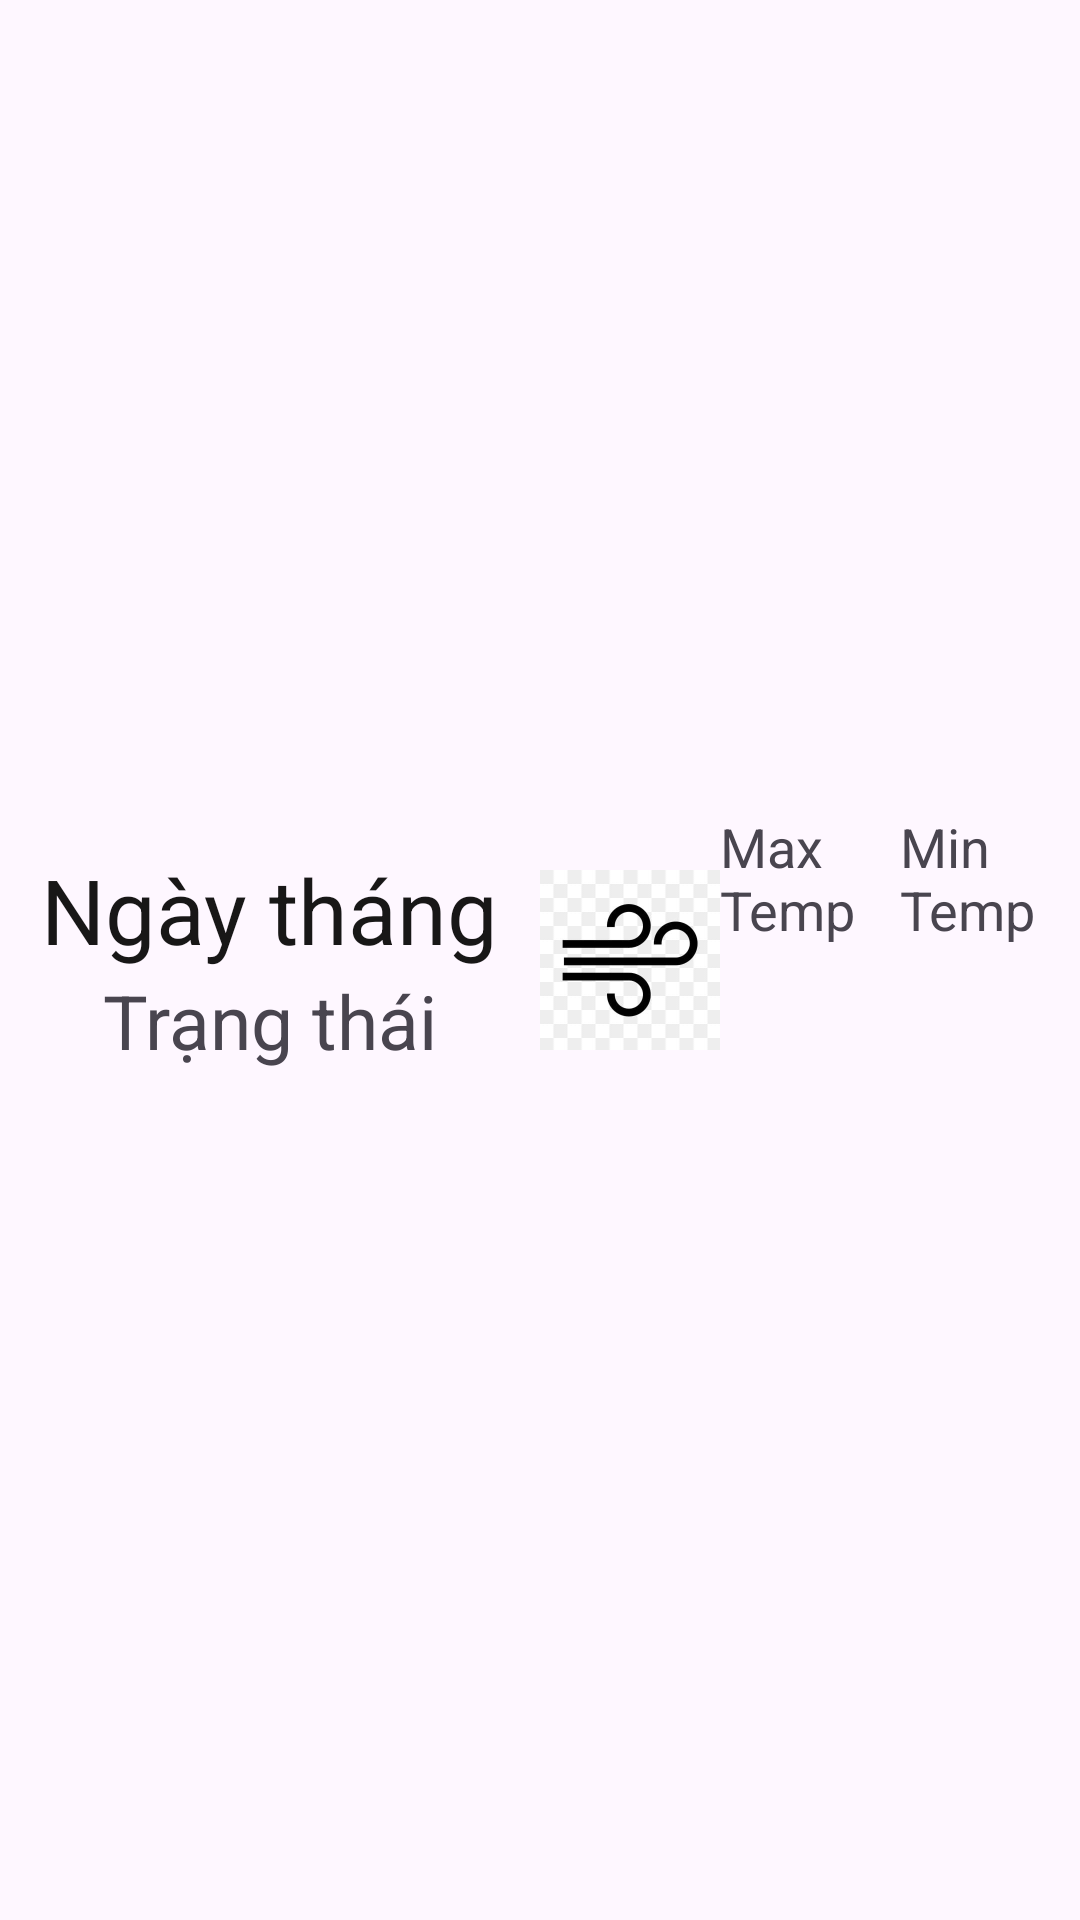

Named icons in this screenshot (1080px×1920px) and their centers, point (x, y):
gio: point (630, 960)
